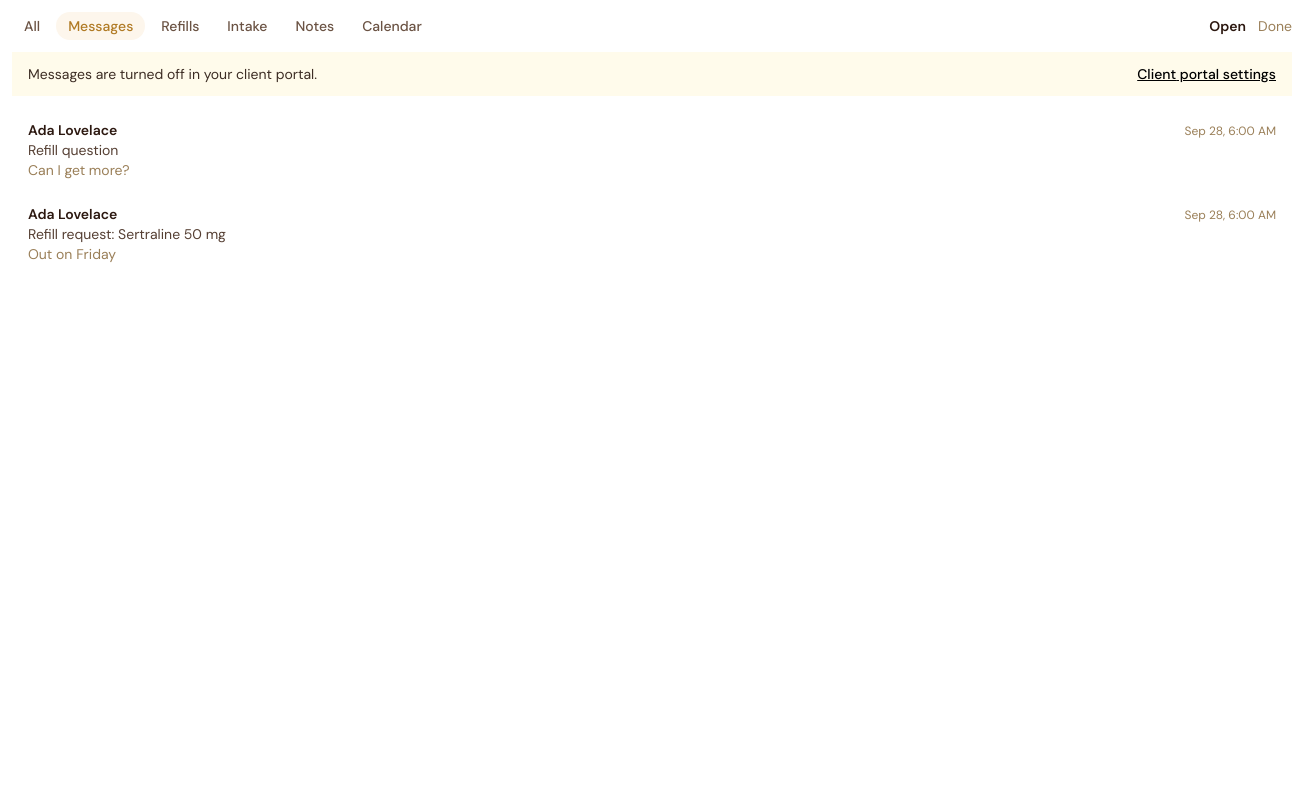
Scenario: Inbox › keeps what clients sent readable with Messages off, and offers no reply
Expected: the element with test id "messages-portal-off" shows "Messages are turned off in your client portal.", [28,65,317,83]
Click the 1st button with test id "inbox-row" at (73, 130), box [12,108,1292,192]
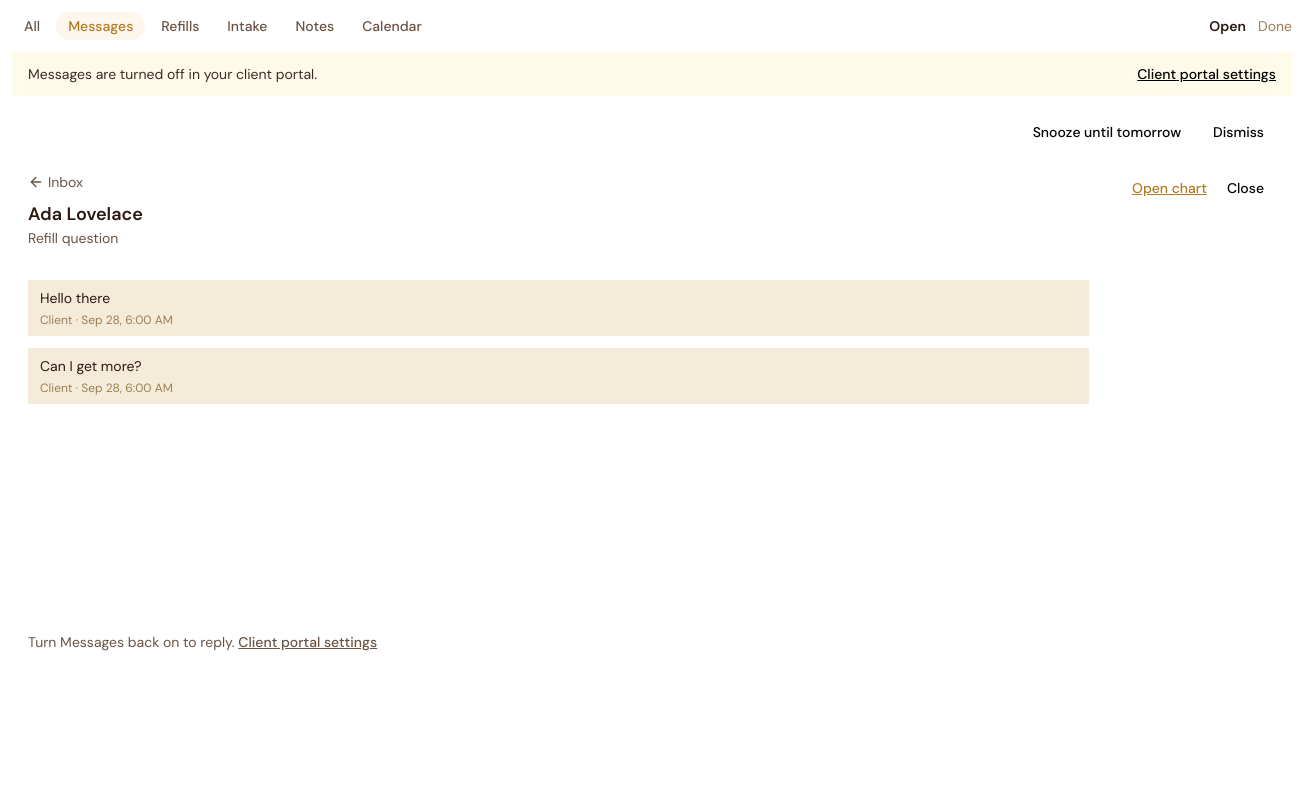
Now the number of list items with test id "thread-message-client" is 2, box [28,280,1089,336]; [28,348,1089,404]
Now the element with test id "thread-replies-off" shows "Turn Messages back on to reply.", box [28,633,235,651]
